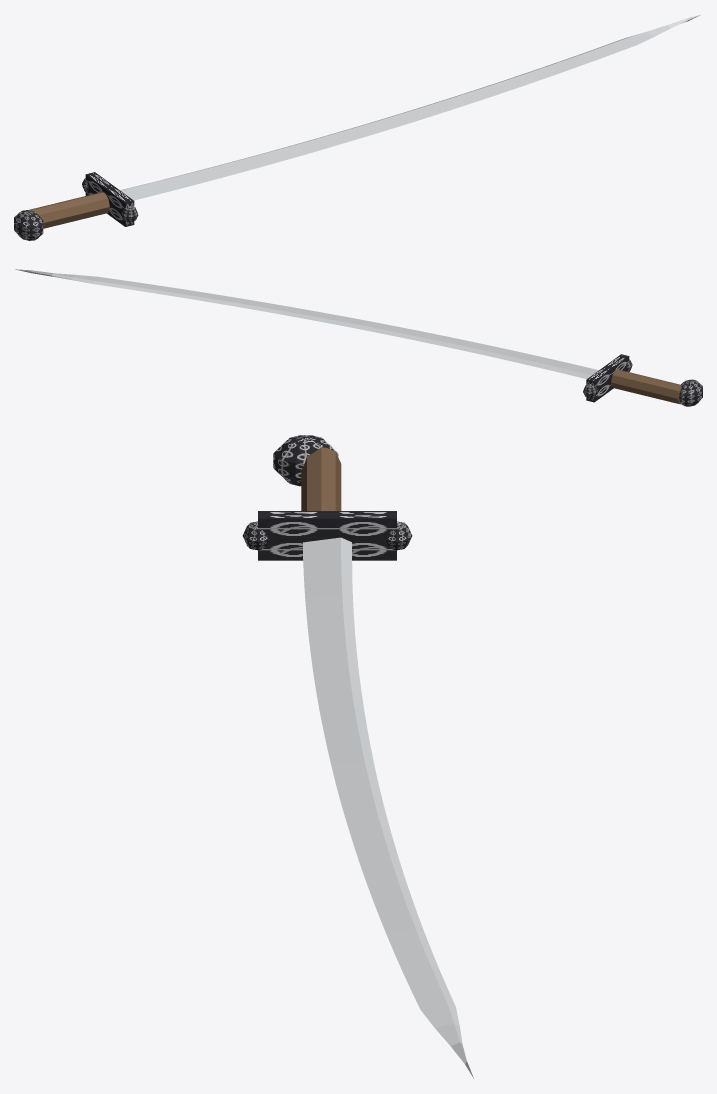
File: saber.glb
The picture shows the model from 3 angles, top to bottom: view 1: azimuth 30°, elevation 25°; view 2: azimuth 150°, elevation 25°; view 3: azimuth 270°, elevation 25°; orthographic projection. The views are drawn at different scales.
Visible parts, largest first — view 1: Saber; view 2: Saber; view 3: Saber.
Boxes of the visible parts, x1=… form: Saber: x1=14, y1=14, x2=701, y2=240; Saber: x1=15, y1=269, x2=702, y2=406; Saber: x1=242, y1=435, x2=473, y2=1078.
Size of the model in its own units: 0.9638 by 0.034 by 0.1501.
3 materials, 1 textured.
